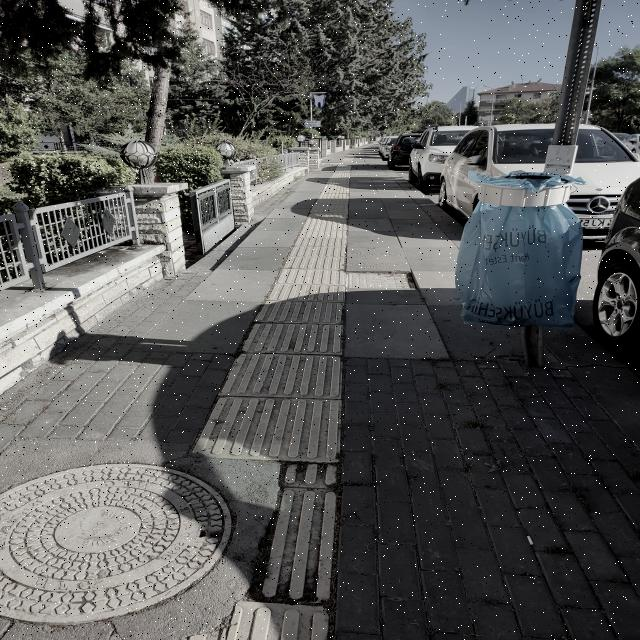sidewalk: (2, 149, 638, 640)
